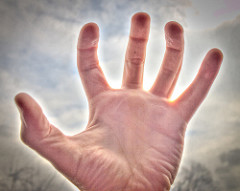palm: (63, 89, 184, 187)
